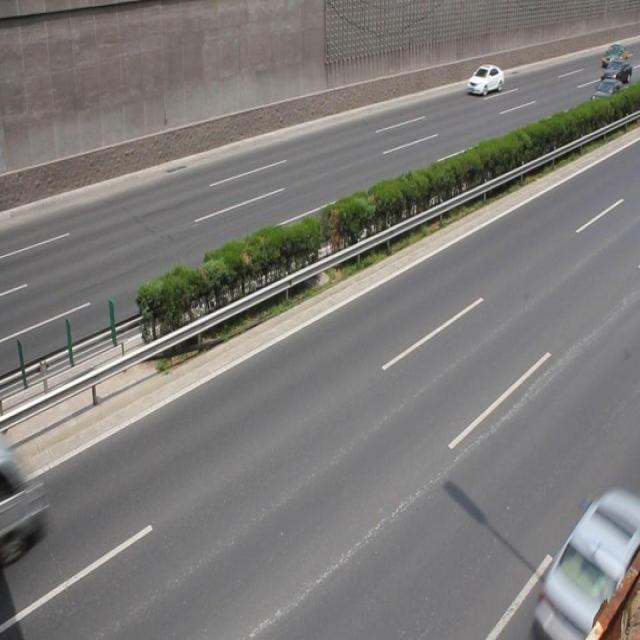car: (466, 64, 502, 96)
